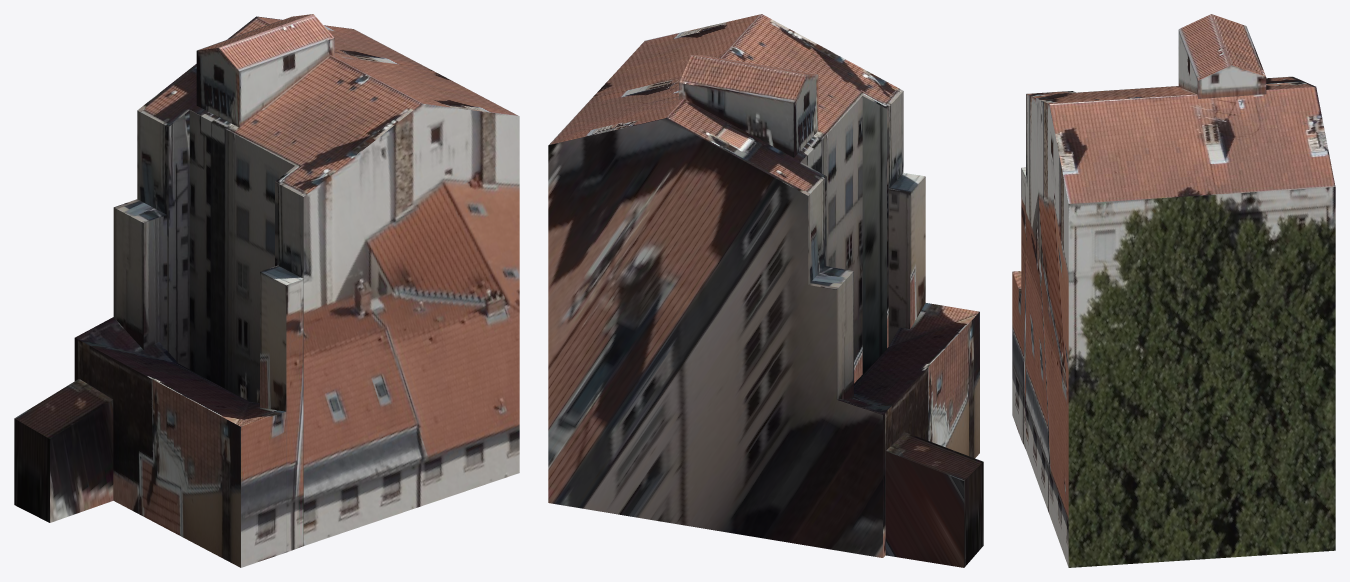
The picture shows the model from 3 angles, left to right: view 1: azimuth 30°, elevation 25°; view 2: azimuth 150°, elevation 25°; view 3: azimuth 270°, elevation 25°; orthographic projection. The views are drawn at different scales.
Parts seen in each view (by area): view 1: Z_UP; view 2: Z_UP; view 3: Z_UP.
Boxes of the visible parts, <box> form: Z_UP: <box>14,14,519,567</box>; Z_UP: <box>548,14,983,567</box>; Z_UP: <box>1012,14,1335,567</box>.
Bounding box in the file's own units: 29.86 × 29.89 × 19.89.
2 materials, 1 textured.
